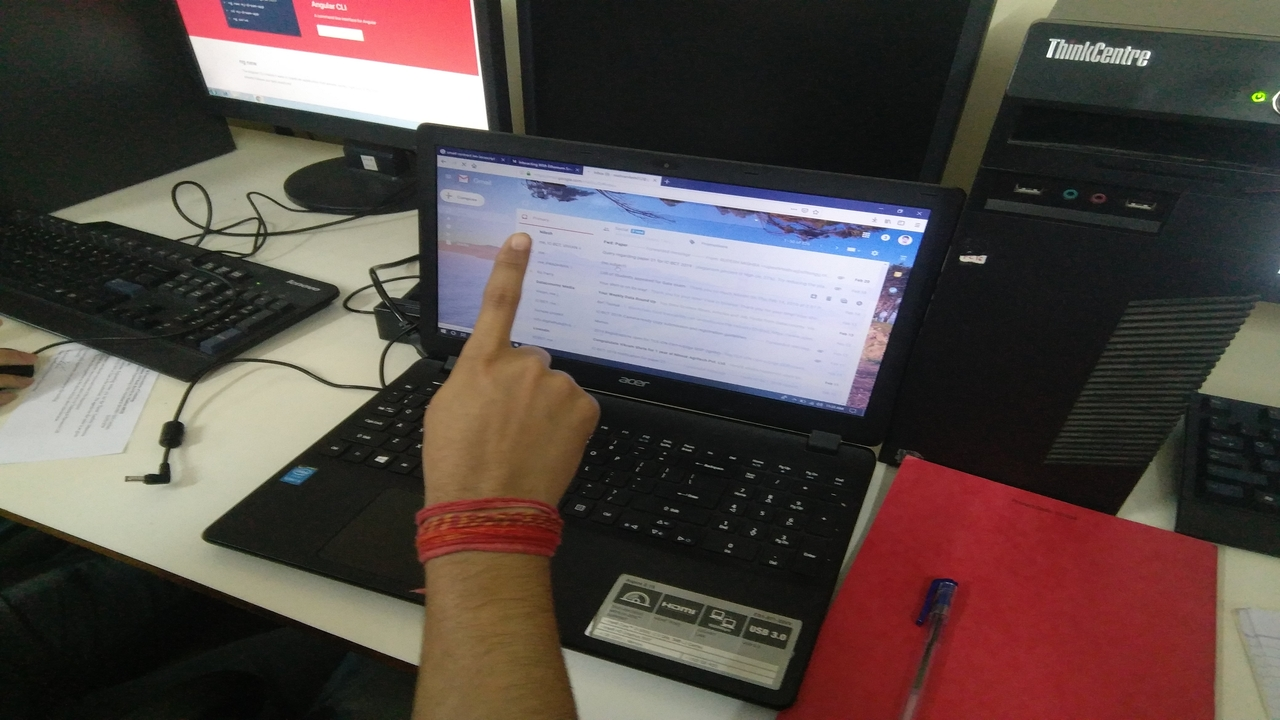fingertip: (486, 220, 538, 266)
